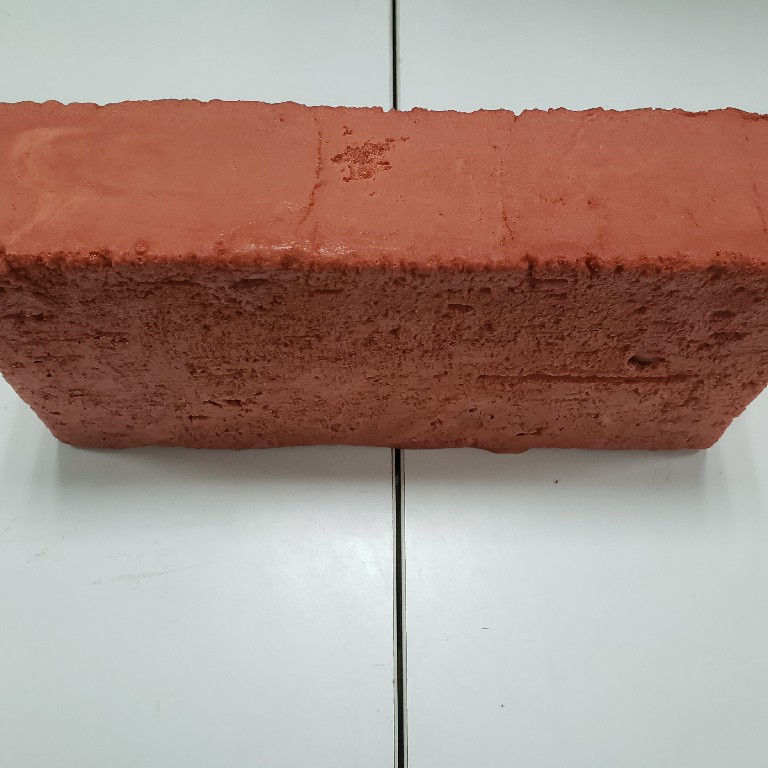brick: (1, 95, 768, 457)
